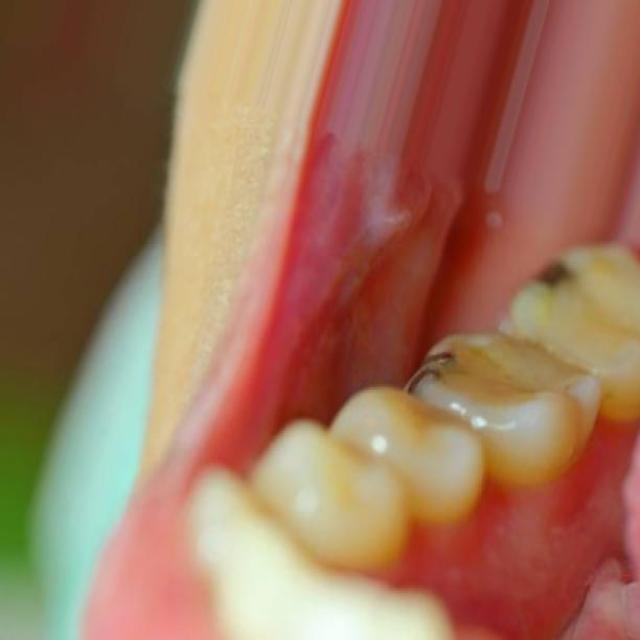caries: (404, 333, 454, 400), (528, 248, 575, 309)
